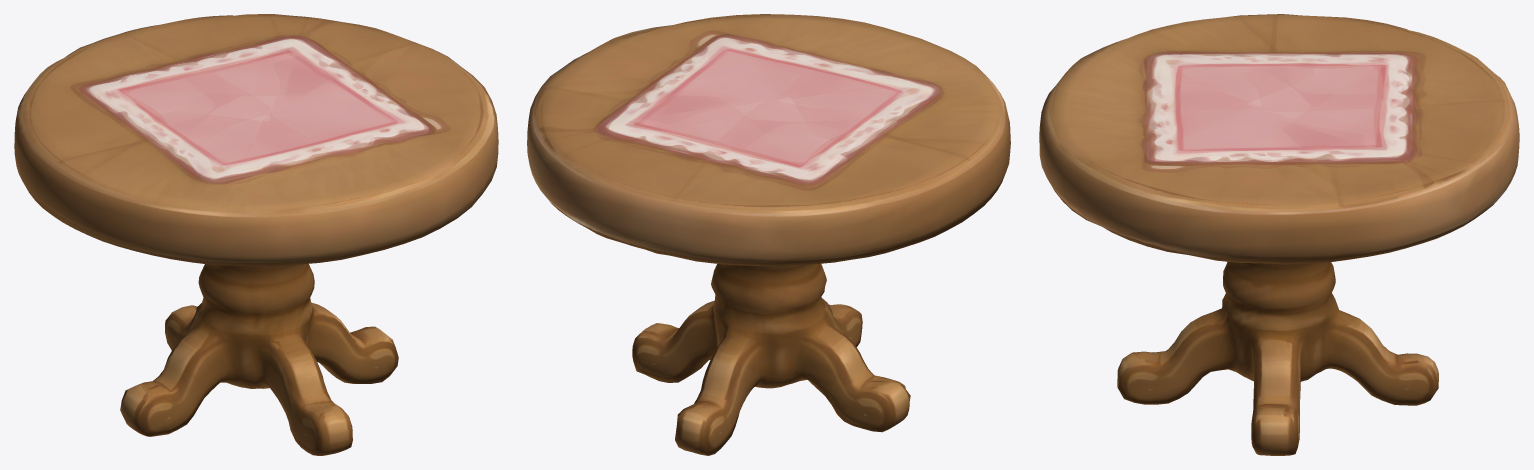
The model's file is Wood_round_table.glb.
3 views of the same model, side by side, from view 1: azimuth 30°, elevation 25°; view 2: azimuth 150°, elevation 25°; view 3: azimuth 270°, elevation 25° (orthographic).
Parts seen in each view (by area): view 1: RETOPO; view 2: RETOPO; view 3: RETOPO.
Boxes of the visible parts, x1,y1,x2,y2 form: RETOPO: (14, 14, 498, 455); RETOPO: (527, 14, 1010, 455); RETOPO: (1039, 14, 1519, 455).
Size of the model in its own units: 1.01 by 0.6846 by 1.01.
1 material, 1 textured.
